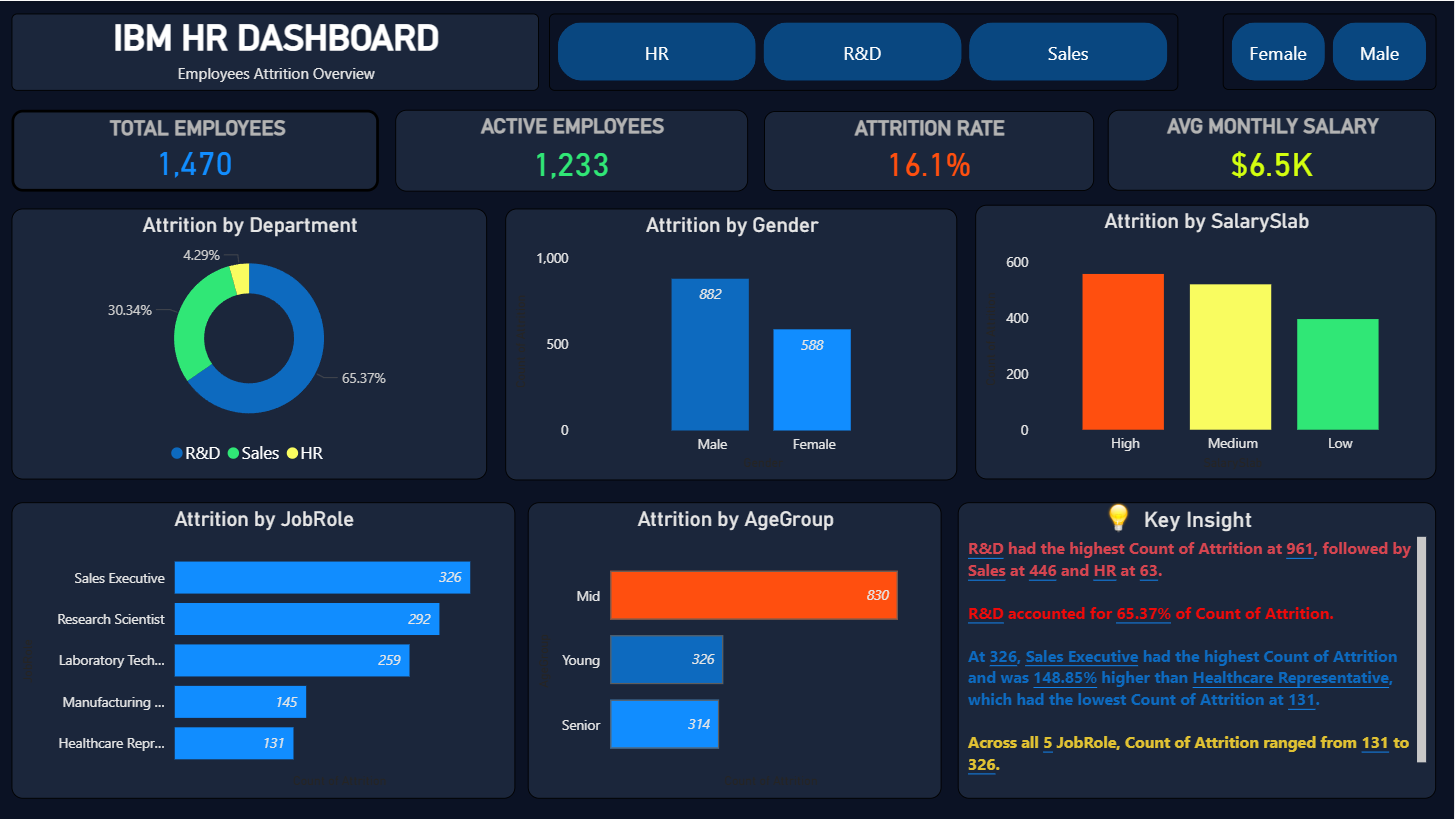

The page's visual inventory and layout, read from the dashboard file:
{"tool":"powerbi","page":{"name":"HR_Dashboard","canvas":[1280,720],"ordinal":0},"visuals":[{"type":"advancedSlicerVisual","title":"Department :","fields":{"Values":["HR.Department"]},"box":[483.3,10.7,553.6,67.9],"z":0},{"type":"advancedSlicerVisual","title":"Gender :","fields":{"Values":["HR.Gender"]},"box":[1076.5,11,188,67.1],"z":1000},{"type":"textbox","title":"IBM HR DASHBOARD","box":[10.7,10.7,464.3,67.9],"z":2000},{"type":"card","title":"TOTAL EMPLOYEES","fields":{"Values":["HR.Total_Employees"]},"box":[11.3,95.5,322.9,71.6],"z":3000},{"type":"card","title":"ATTRITION RATE","fields":{"Values":["HR.Attrition_By_Dept%"]},"box":[673.4,96.7,290.2,70.4],"z":4000},{"type":"card","title":"AVG MONTHLY SALARY","fields":{"Values":["HR.Avg_Monthly_Income"]},"box":[975.3,95.7,289.2,71.5],"z":5000},{"type":"clusteredBarChart","title":"Attrition by AgeGroup","fields":{"Category":["HR.AgeGroup"],"Y":["CountNonNull(HR.Attrition)"]},"box":[465.5,440.5,364.3,260.7],"z":5500},{"type":"textbox","title":"Key Insight","box":[843.4,440.9,421.1,260.6],"z":5750},{"type":"card","title":" ACTIVE EMPLOYEES","fields":{"Values":["HR.Active_Employees"]},"box":[348,95.5,310.3,71.6],"z":6000},{"type":"donutChart","title":"Attrition by Department","fields":{"Category":["HR.Department"],"Y":["CountNonNull(HR.Attrition)"]},"box":[11.3,182.2,418.4,238.7],"z":7000},{"type":"columnChart","title":" Attrition by Gender","fields":{"Category":["HR.Gender"],"Y":["CountNonNull(HR.Attrition)"]},"box":[445.2,182.1,397.6,239.3],"z":9000},{"type":"columnChart","title":" Attrition by SalarySlab","fields":{"Category":["HR.SalarySlab"],"Y":["CountNonNull(HR.Attrition)"]},"box":[858.8,179.2,405.7,241.9],"z":10000},{"type":"clusteredBarChart","title":" Attrition by JobRole","fields":{"Y":["CountNonNull(HR.Attrition)"],"Category":["HR.JobRole"]},"box":[10.7,440.5,442.9,260.7],"z":11000},{"type":"image","box":[964.3,440.5,40.5,26.2],"z":11001}]}

Visuals, with their boxes in screenshot pixels (x1, y1, x2, y2), scaled from the page's 1280x720 canvas onto the 1455x819 screenshot:
"Department :" advancedSlicerVisual: bbox=[549, 12, 1179, 89]
"Gender :" advancedSlicerVisual: bbox=[1224, 13, 1437, 89]
"IBM HR DASHBOARD" textbox: bbox=[12, 12, 540, 89]
"TOTAL EMPLOYEES" card: bbox=[13, 109, 380, 190]
"ATTRITION RATE" card: bbox=[765, 110, 1095, 190]
"AVG MONTHLY SALARY" card: bbox=[1109, 109, 1437, 190]
"Attrition by AgeGroup" clusteredBarChart: bbox=[529, 501, 943, 798]
"Key Insight" textbox: bbox=[959, 502, 1437, 798]
" ACTIVE EMPLOYEES" card: bbox=[396, 109, 748, 190]
"Attrition by Department" donutChart: bbox=[13, 207, 488, 479]
" Attrition by Gender" columnChart: bbox=[506, 207, 958, 479]
" Attrition by SalarySlab" columnChart: bbox=[976, 204, 1437, 479]
" Attrition by JobRole" clusteredBarChart: bbox=[12, 501, 516, 798]
image: bbox=[1096, 501, 1142, 531]
